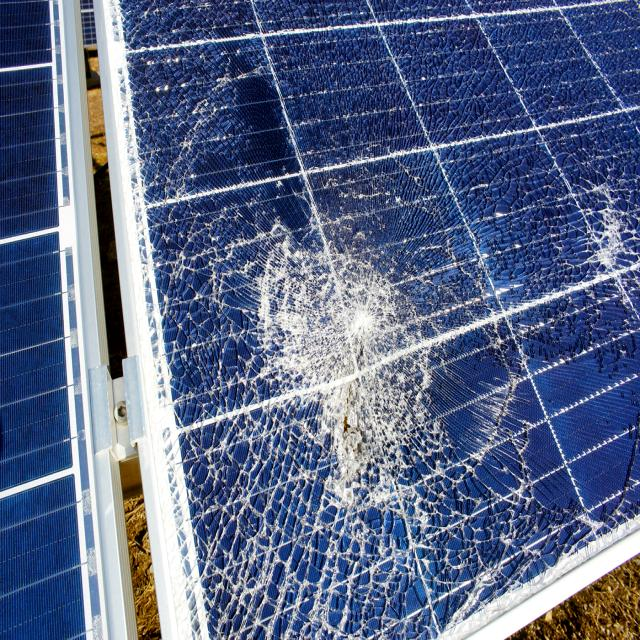hotspot: (249, 202, 437, 516), (215, 538, 385, 640), (588, 176, 636, 318), (412, 540, 518, 590)
